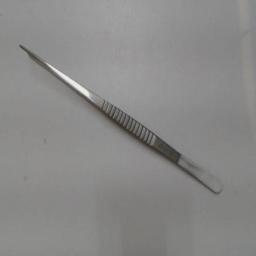DeBakey Dissector: (10, 23, 234, 203)
